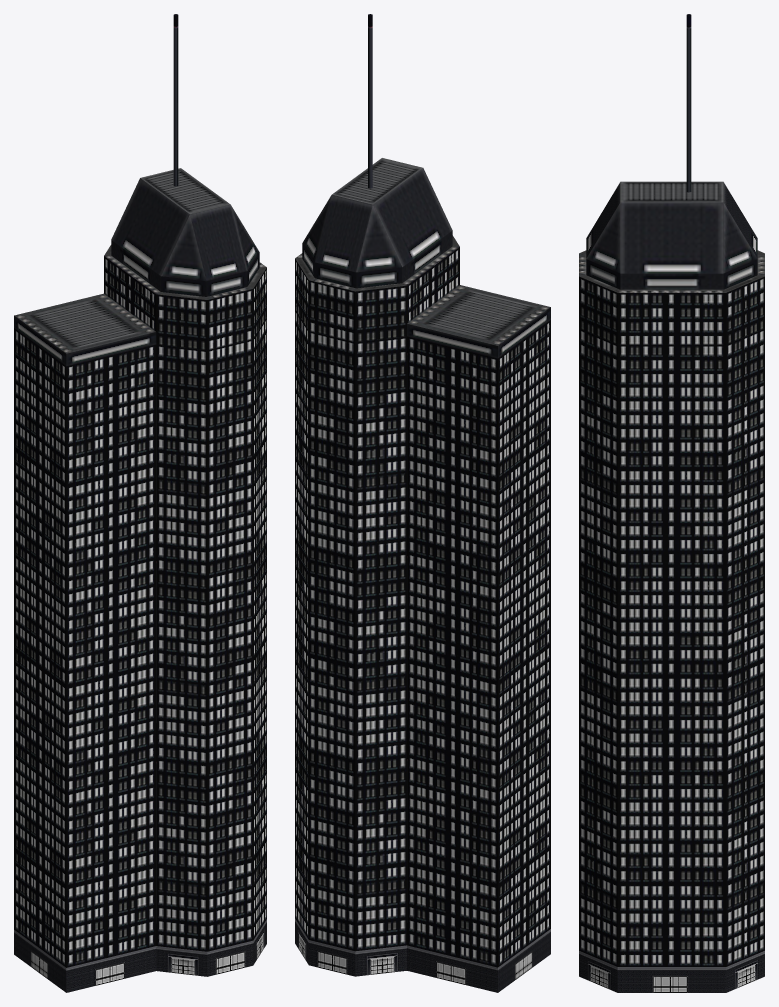
File: skyscrap24.glb
The picture shows the model from 3 angles, left to right: view 1: azimuth 30°, elevation 25°; view 2: azimuth 150°, elevation 25°; view 3: azimuth 270°, elevation 25°; orthographic projection. The views are drawn at different scales.
Visible parts, largest first — view 1: sk24; view 2: sk24; view 3: sk24.
Part boxes in pixels (bbox=[...]): sk24: bbox=[14, 14, 266, 992]; sk24: bbox=[295, 14, 550, 992]; sk24: bbox=[579, 14, 764, 992].
Size of the model in its own units: 11.83 by 51.73 by 9.18.
Materials: 1 (1 with a texture image).
